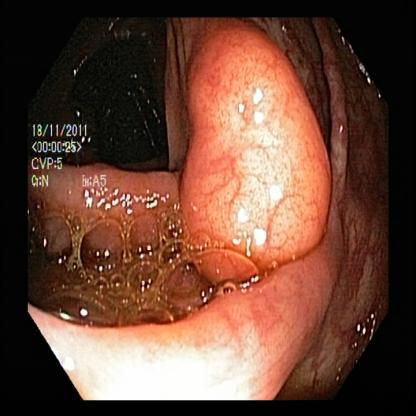Labels: (30, 112, 114, 193)
Polyps: (186, 39, 321, 285)
